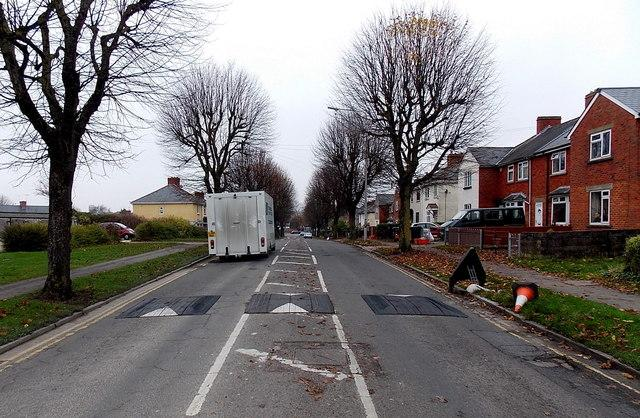Bump: (244, 290, 352, 324), (363, 295, 464, 315), (136, 293, 220, 312)
